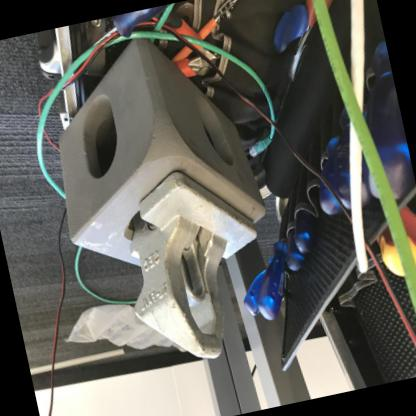CornerCasting: (27, 17, 284, 288)
Twistlock: (104, 152, 284, 378)
